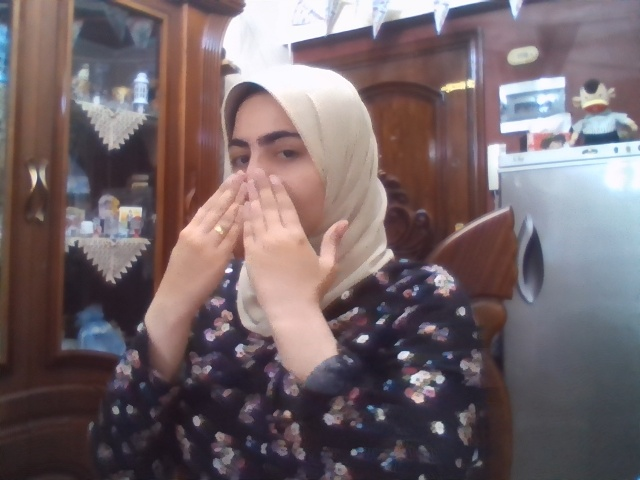thanks: (161, 170, 348, 306)
